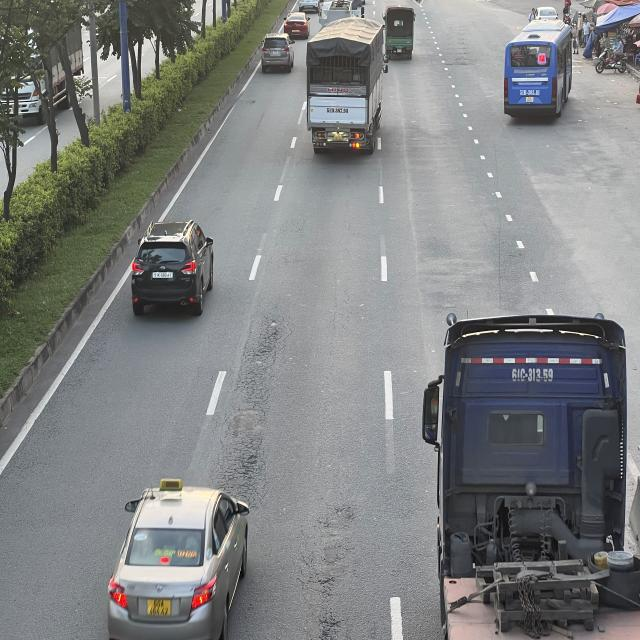car: (105, 481, 247, 640), (131, 220, 217, 318), (261, 34, 297, 74), (282, 12, 310, 38)
coach: (504, 20, 578, 120)
container: (426, 310, 636, 635)
truck: (307, 20, 388, 154), (384, 1, 418, 57)
